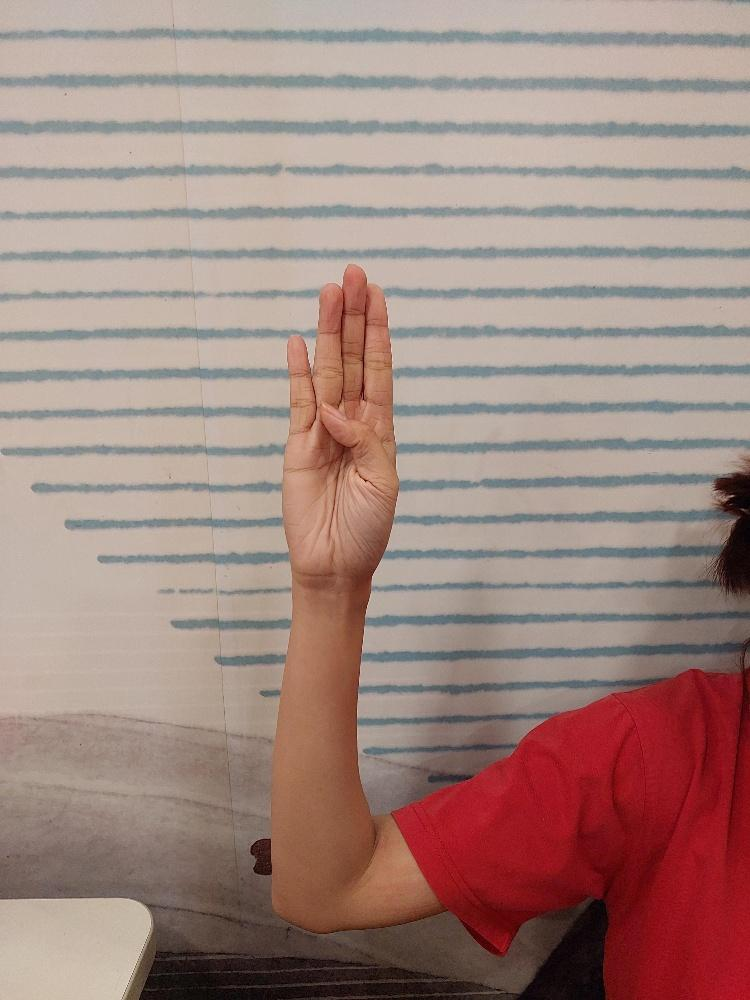b: (280, 261, 398, 588)
